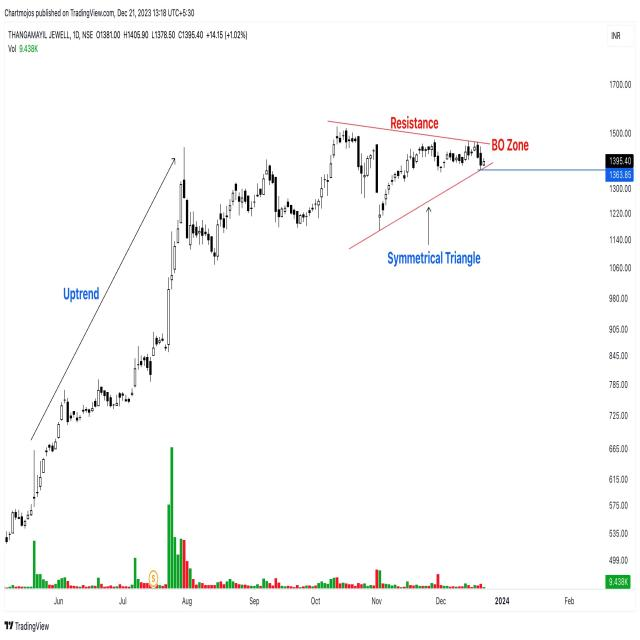Triangle: (307, 122, 513, 264)
